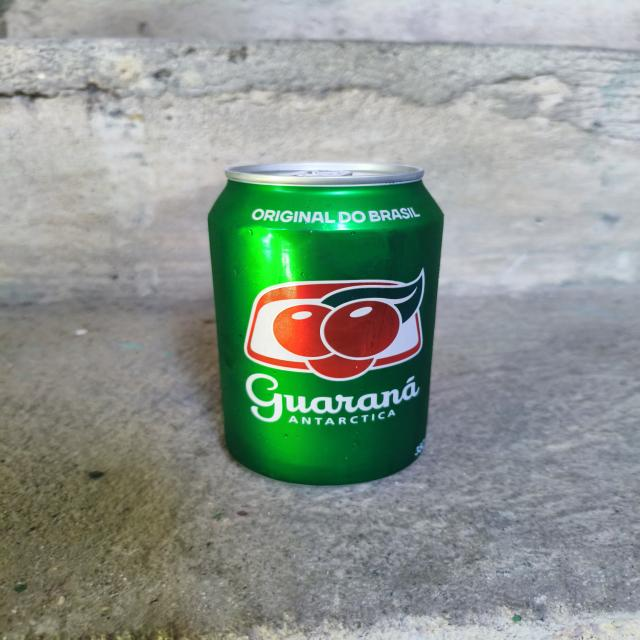Guarana: (190, 138, 463, 488)
